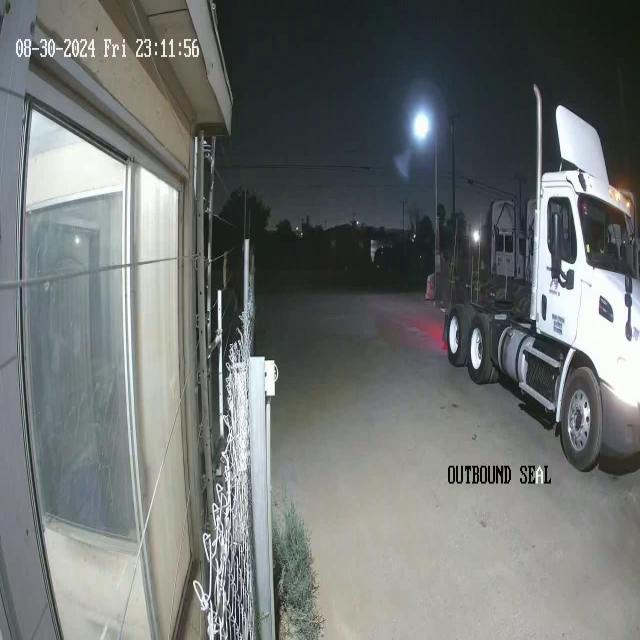BOBTAIL: (443, 85, 639, 473)
